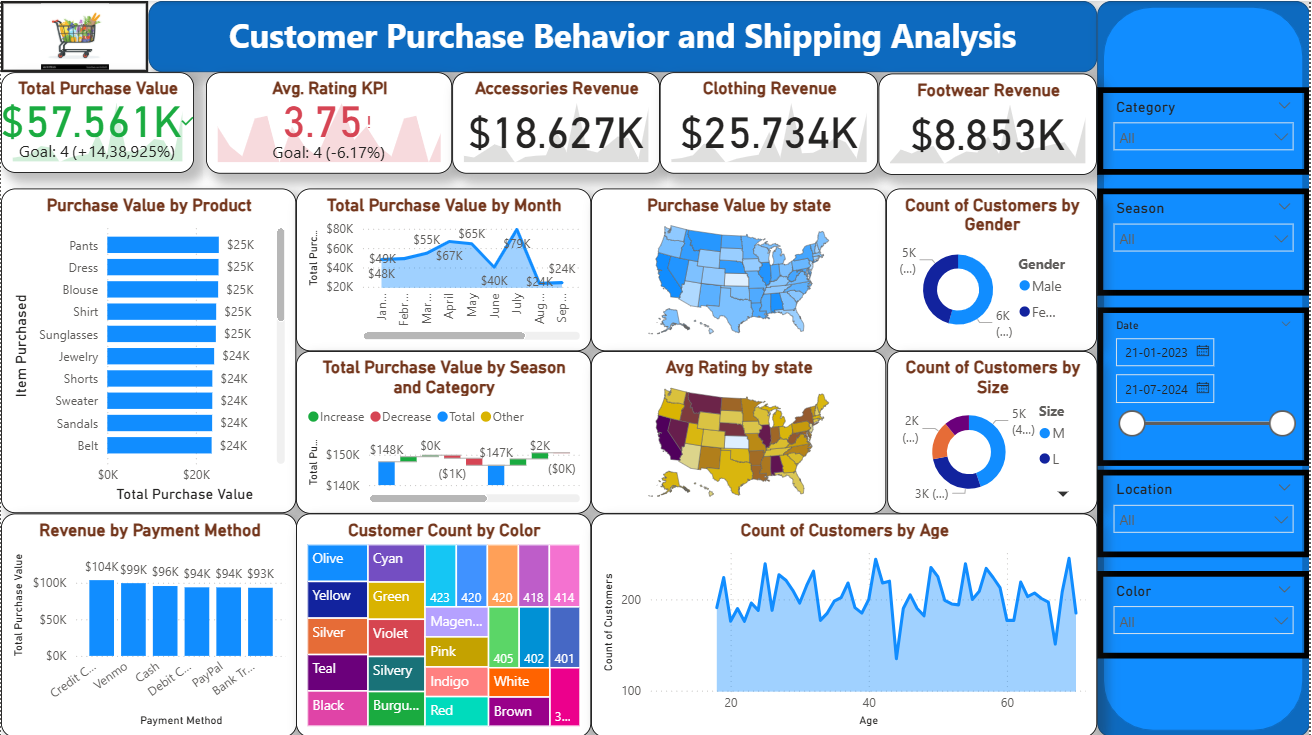

The dashboard page shown, as its layout file describes it:
{"tool":"powerbi","page":{"name":"Page 1","canvas":[1280,720],"ordinal":0},"visuals":[{"type":"textbox","box":[144.3,0,928.1,69.7],"z":0},{"type":"shape","box":[1072.4,0,207.9,720.2],"z":1000},{"type":"image","box":[0,0,144.3,69.7],"z":2000},{"type":"kpi","title":"Total Purchase Value    ","fields":{"Indicator":["Measure Table.Total Purchase Value"],"TrendLine":["Sheet1.Date"],"Goal":["Measure Table.Target Purchase Value"]},"box":[0,70,188.6,98.6],"z":3000},{"type":"kpi","title":"Avg. Rating KPI","fields":{"TrendLine":["Sheet1.Date"],"Indicator":["Measure Table.Average Rating"],"Goal":["Measure Table.Target Avg. Rating"]},"box":[200.5,69.7,240.9,99],"z":4000},{"type":"kpi","title":"Accessories Revenue","fields":{"Indicator":["Measure Table.Total Purchase Value"],"TrendLine":["Sheet1.Date"]},"box":[441.4,69.7,203,99],"z":5000},{"type":"kpi","title":"Clothing Revenue","fields":{"Indicator":["Measure Table.Total Purchase Value"],"TrendLine":["Sheet1.Date"]},"box":[644.4,69.7,214,99],"z":6000},{"type":"kpi","title":"Footwear Revenue","fields":{"Indicator":["Measure Table.Total Purchase Value"],"TrendLine":["Sheet1.Date"]},"box":[858.4,70.9,214,99],"z":7000},{"type":"clusteredBarChart","title":" Purchase Value by Product","fields":{"Category":["Sheet1.Item Purchased"],"Y":["Measure Table.Total Purchase Value"]},"box":[0,183.4,288.6,317.9],"z":8000},{"type":"areaChart","fields":{"Category":["Sheet1.Date.Variation.Date Hierarchy.Month"],"Y":["Measure Table.Total Purchase Value"]},"box":[288.6,183.4,288.6,159],"z":9000},{"type":"waterfallChart","fields":{"Y":["Measure Table.Total Purchase Value"],"Category":["Sheet1.Season"],"Breakdown":["Sheet1.Category"]},"box":[288.6,342.4,288.6,159],"z":10000},{"type":"shapeMap","title":" Purchase Value by state","fields":{"Value":["Measure Table.Total Purchase Value"],"Category":["Sheet1.Location"]},"box":[577.2,183.4,288.6,159],"z":11000},{"type":"shapeMap","title":"Avg Rating by state","fields":{"Value":["Measure Table.Total Purchase Value"],"Category":["Sheet1.Location"]},"box":[577.2,342.4,288.6,159],"z":12000},{"type":"slicer","fields":{"Values":["Sheet1.Category"]},"box":[1072.4,84.4,207.9,85.6],"z":13000},{"type":"slicer","fields":{"Values":["Sheet1.Color"]},"box":[1072.4,557.6,207.9,85.6],"z":14000},{"type":"slicer","fields":{"Values":["Sheet1.Season"]},"box":[1072.4,183.4,207.9,105.2],"z":15000},{"type":"slicer","fields":{"Values":["Sheet1.Date"]},"box":[1072.4,299.6,207.9,155.3],"z":16000},{"type":"slicer","fields":{"Values":["Sheet1.Location"]},"box":[1072.4,458.6,207.9,85.6],"z":17000},{"type":"donutChart","fields":{"Category":["Sheet1.Gender"],"Y":["Measure Table.Count of Customers"]},"box":[865.8,183.4,206.7,159],"z":18000},{"type":"donutChart","fields":{"Y":["Measure Table.Count of Customers"],"Category":["Sheet1.Size"]},"box":[867,342.4,205.4,159],"z":19000},{"type":"columnChart","title":"Revenue by Payment Method","fields":{"Category":["Sheet1.Payment Method"],"Y":["Measure Table.Total Purchase Value"]},"box":[0,501.4,289.8,218.9],"z":20000},{"type":"treemap","title":"Customer Count by Color","fields":{"Group":["Sheet1.Color"],"Values":["Measure Table.Count of Customers"]},"box":[288.6,501.4,288.6,218.9],"z":21000},{"type":"stackedAreaChart","fields":{"Y":["Measure Table.Count of Customers"],"Category":["Sheet1.Age"]},"box":[577.2,501.4,495.2,218.9],"z":22000}]}

Visuals, with their boxes in screenshot pixels (x1, y1, x2, y2), scaled from the page's 1280x720 canvas onto the 1312x735 screenshot:
textbox: {"left": 148, "top": 0, "right": 1099, "bottom": 71}
shape: {"left": 1099, "top": 0, "right": 1311, "bottom": 734}
image: {"left": 0, "top": 0, "right": 148, "bottom": 71}
"Total Purchase Value    " kpi: {"left": 0, "top": 71, "right": 193, "bottom": 172}
"Avg. Rating KPI" kpi: {"left": 206, "top": 71, "right": 452, "bottom": 172}
"Accessories Revenue" kpi: {"left": 452, "top": 71, "right": 661, "bottom": 172}
"Clothing Revenue" kpi: {"left": 661, "top": 71, "right": 880, "bottom": 172}
"Footwear Revenue" kpi: {"left": 880, "top": 72, "right": 1099, "bottom": 173}
" Purchase Value by Product" clusteredBarChart: {"left": 0, "top": 187, "right": 296, "bottom": 512}
areaChart - Sheet1.Date.Variation.Date Hierarchy.Month x Measure Table.Total Purchase Value: {"left": 296, "top": 187, "right": 592, "bottom": 350}
waterfallChart - Measure Table.Total Purchase Value x Sheet1.Season: {"left": 296, "top": 350, "right": 592, "bottom": 512}
" Purchase Value by state" shapeMap: {"left": 592, "top": 187, "right": 887, "bottom": 350}
"Avg Rating by state" shapeMap: {"left": 592, "top": 350, "right": 887, "bottom": 512}
slicer - Sheet1.Category: {"left": 1099, "top": 86, "right": 1311, "bottom": 174}
slicer - Sheet1.Color: {"left": 1099, "top": 569, "right": 1311, "bottom": 657}
slicer - Sheet1.Season: {"left": 1099, "top": 187, "right": 1311, "bottom": 295}
slicer - Sheet1.Date: {"left": 1099, "top": 306, "right": 1311, "bottom": 464}
slicer - Sheet1.Location: {"left": 1099, "top": 468, "right": 1311, "bottom": 556}
donutChart - Sheet1.Gender x Measure Table.Count of Customers: {"left": 887, "top": 187, "right": 1099, "bottom": 350}
donutChart - Measure Table.Count of Customers x Sheet1.Size: {"left": 889, "top": 350, "right": 1099, "bottom": 512}
"Revenue by Payment Method" columnChart: {"left": 0, "top": 512, "right": 297, "bottom": 734}
"Customer Count by Color" treemap: {"left": 296, "top": 512, "right": 592, "bottom": 734}
stackedAreaChart - Measure Table.Count of Customers x Sheet1.Age: {"left": 592, "top": 512, "right": 1099, "bottom": 734}
